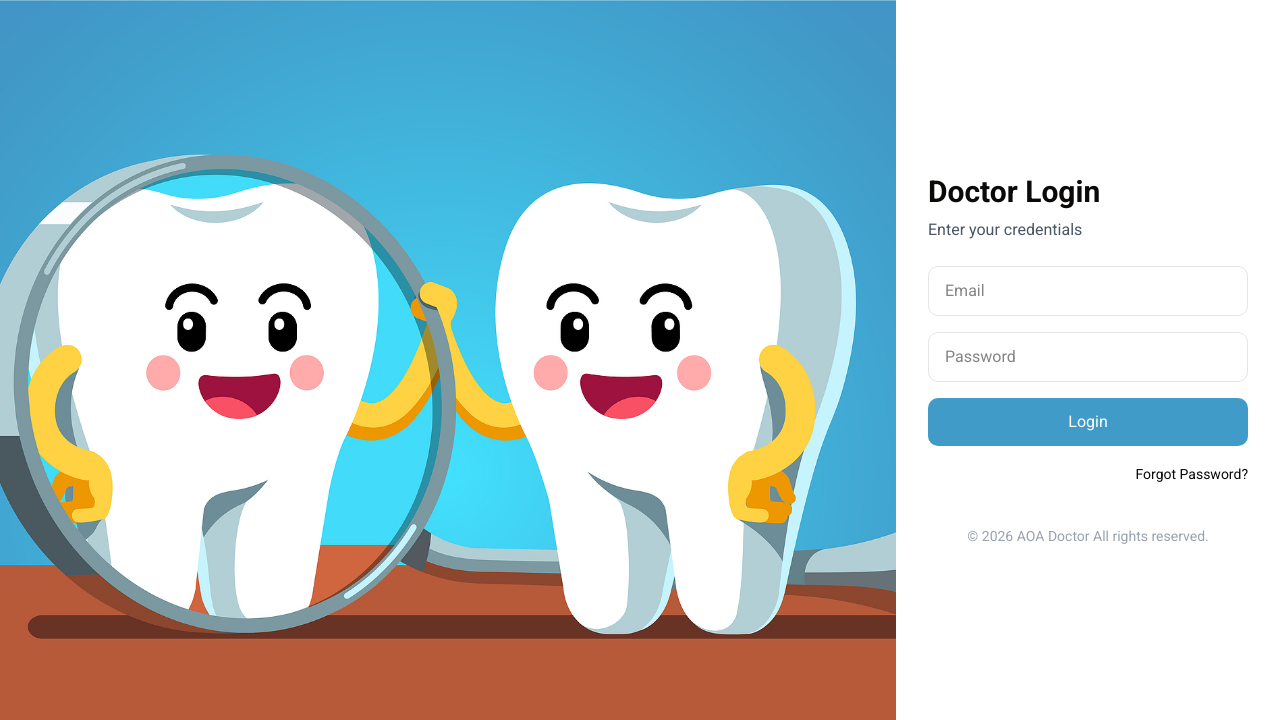
Test: Login Component › switches to forgot password mode
Click the button "Forgot Password?" at [1192, 474], box x1=1136 y1=464 x2=1248 y2=484
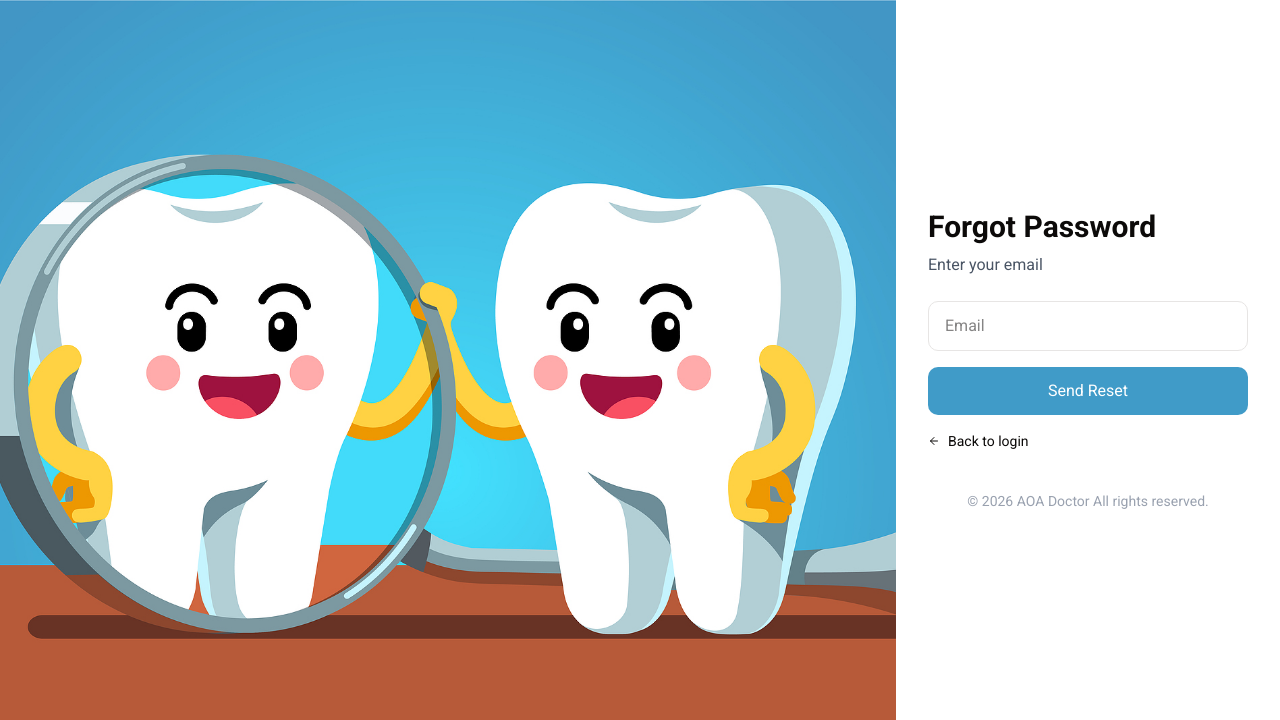
Now the heading "Forgot Password" is shown, box x1=928 y1=209 x2=1156 y2=244
Now the text "Enter your email" is shown, box x1=928 y1=255 x2=1043 y2=274
Now the button "Send Reset" is shown, box x1=928 y1=367 x2=1248 y2=415
